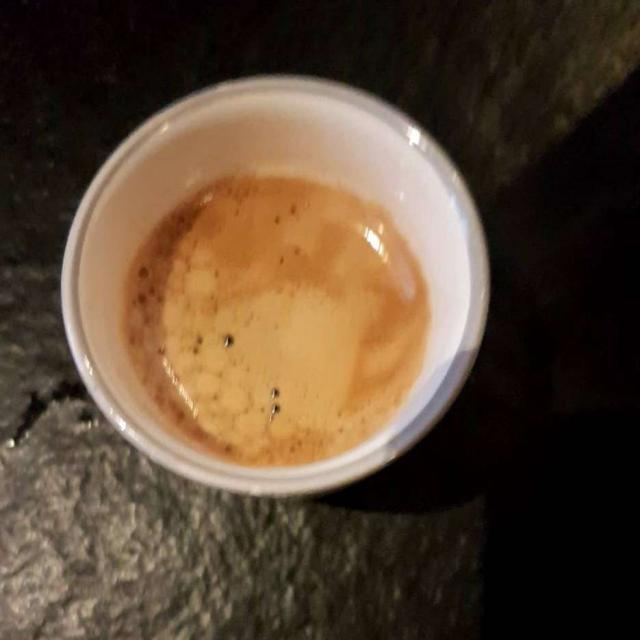coffee-with-caffeine: (122, 175, 427, 462)
